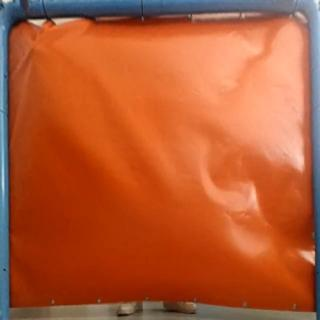Hit-hRxx: (24, 40, 43, 56)
